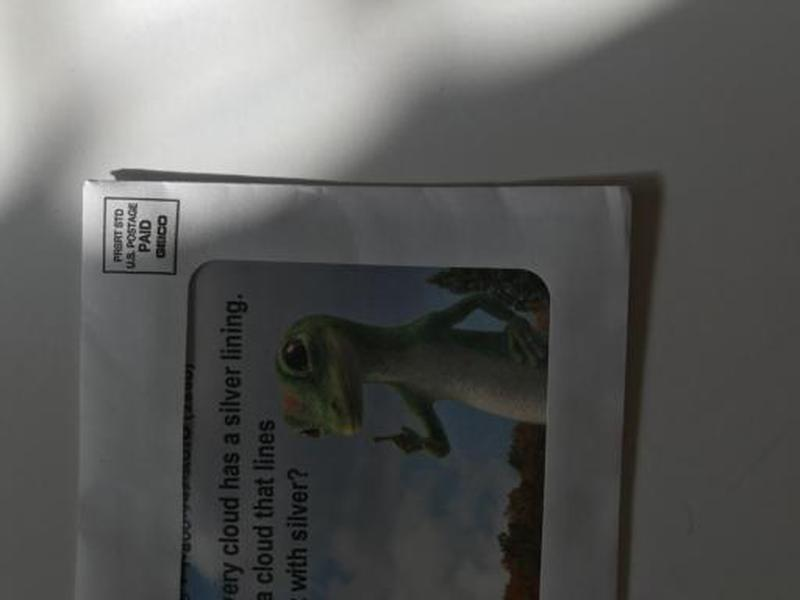paper: (72, 175, 637, 600)
